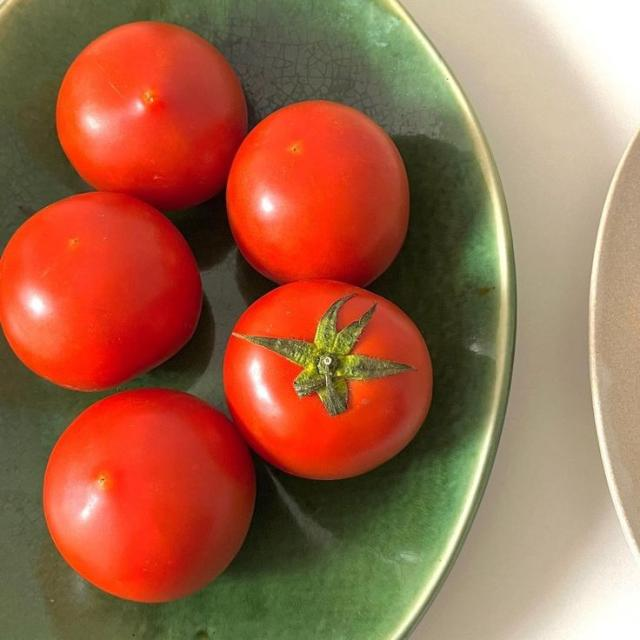tomato: (44, 389, 254, 601), (224, 280, 432, 479), (0, 193, 201, 390), (57, 22, 246, 209), (227, 100, 408, 286)
